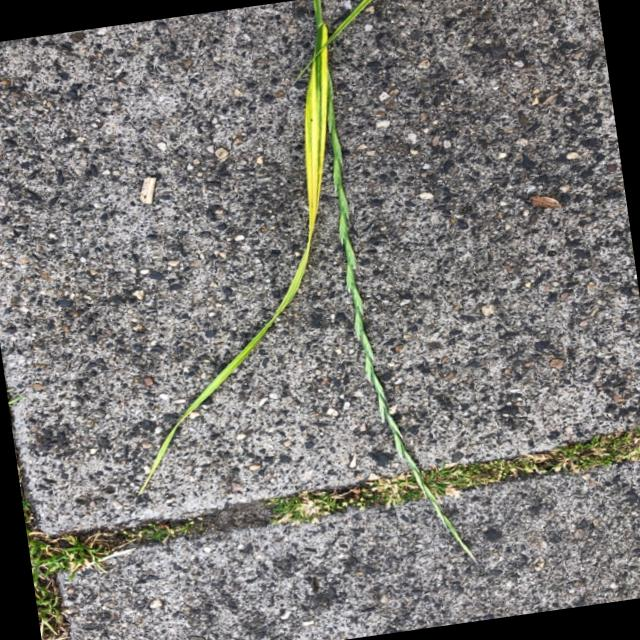Lolium: (285, 0, 483, 580)
